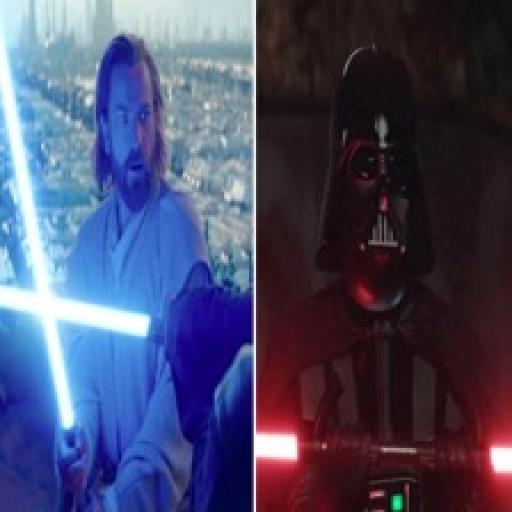human: (36, 26, 213, 511)
lightsaber: (0, 25, 101, 510), (0, 281, 198, 351)
